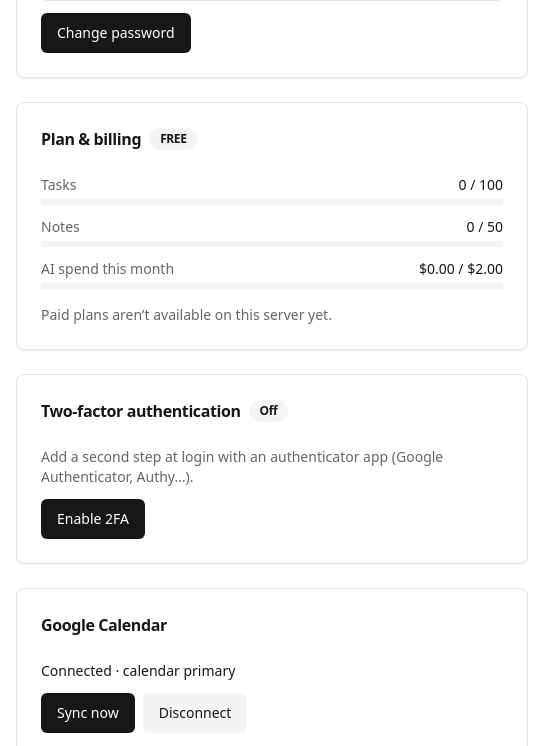
Test: Google Calendar settings (C1.3) › disconnects and returns to the connect state
(page scrolled)
Click the button "Disconnect" at (195, 713), box [143,693,247,733]
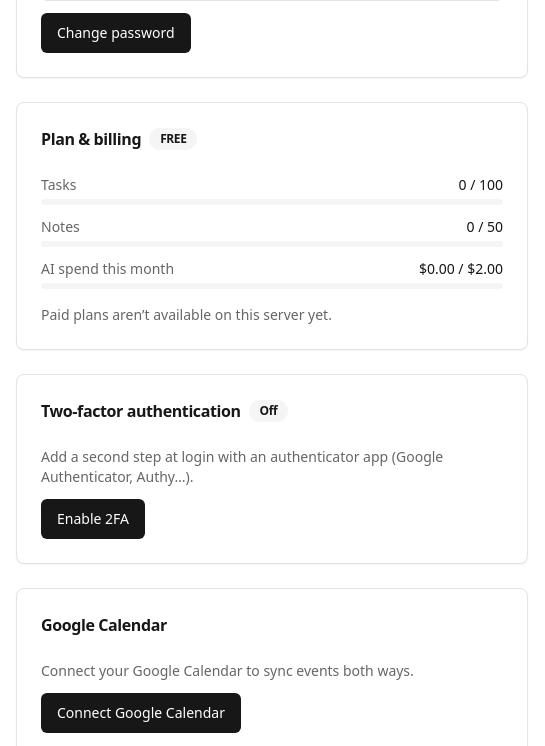
Check: the button "Connect Google Calendar" is shown, box [41,693,241,733]
